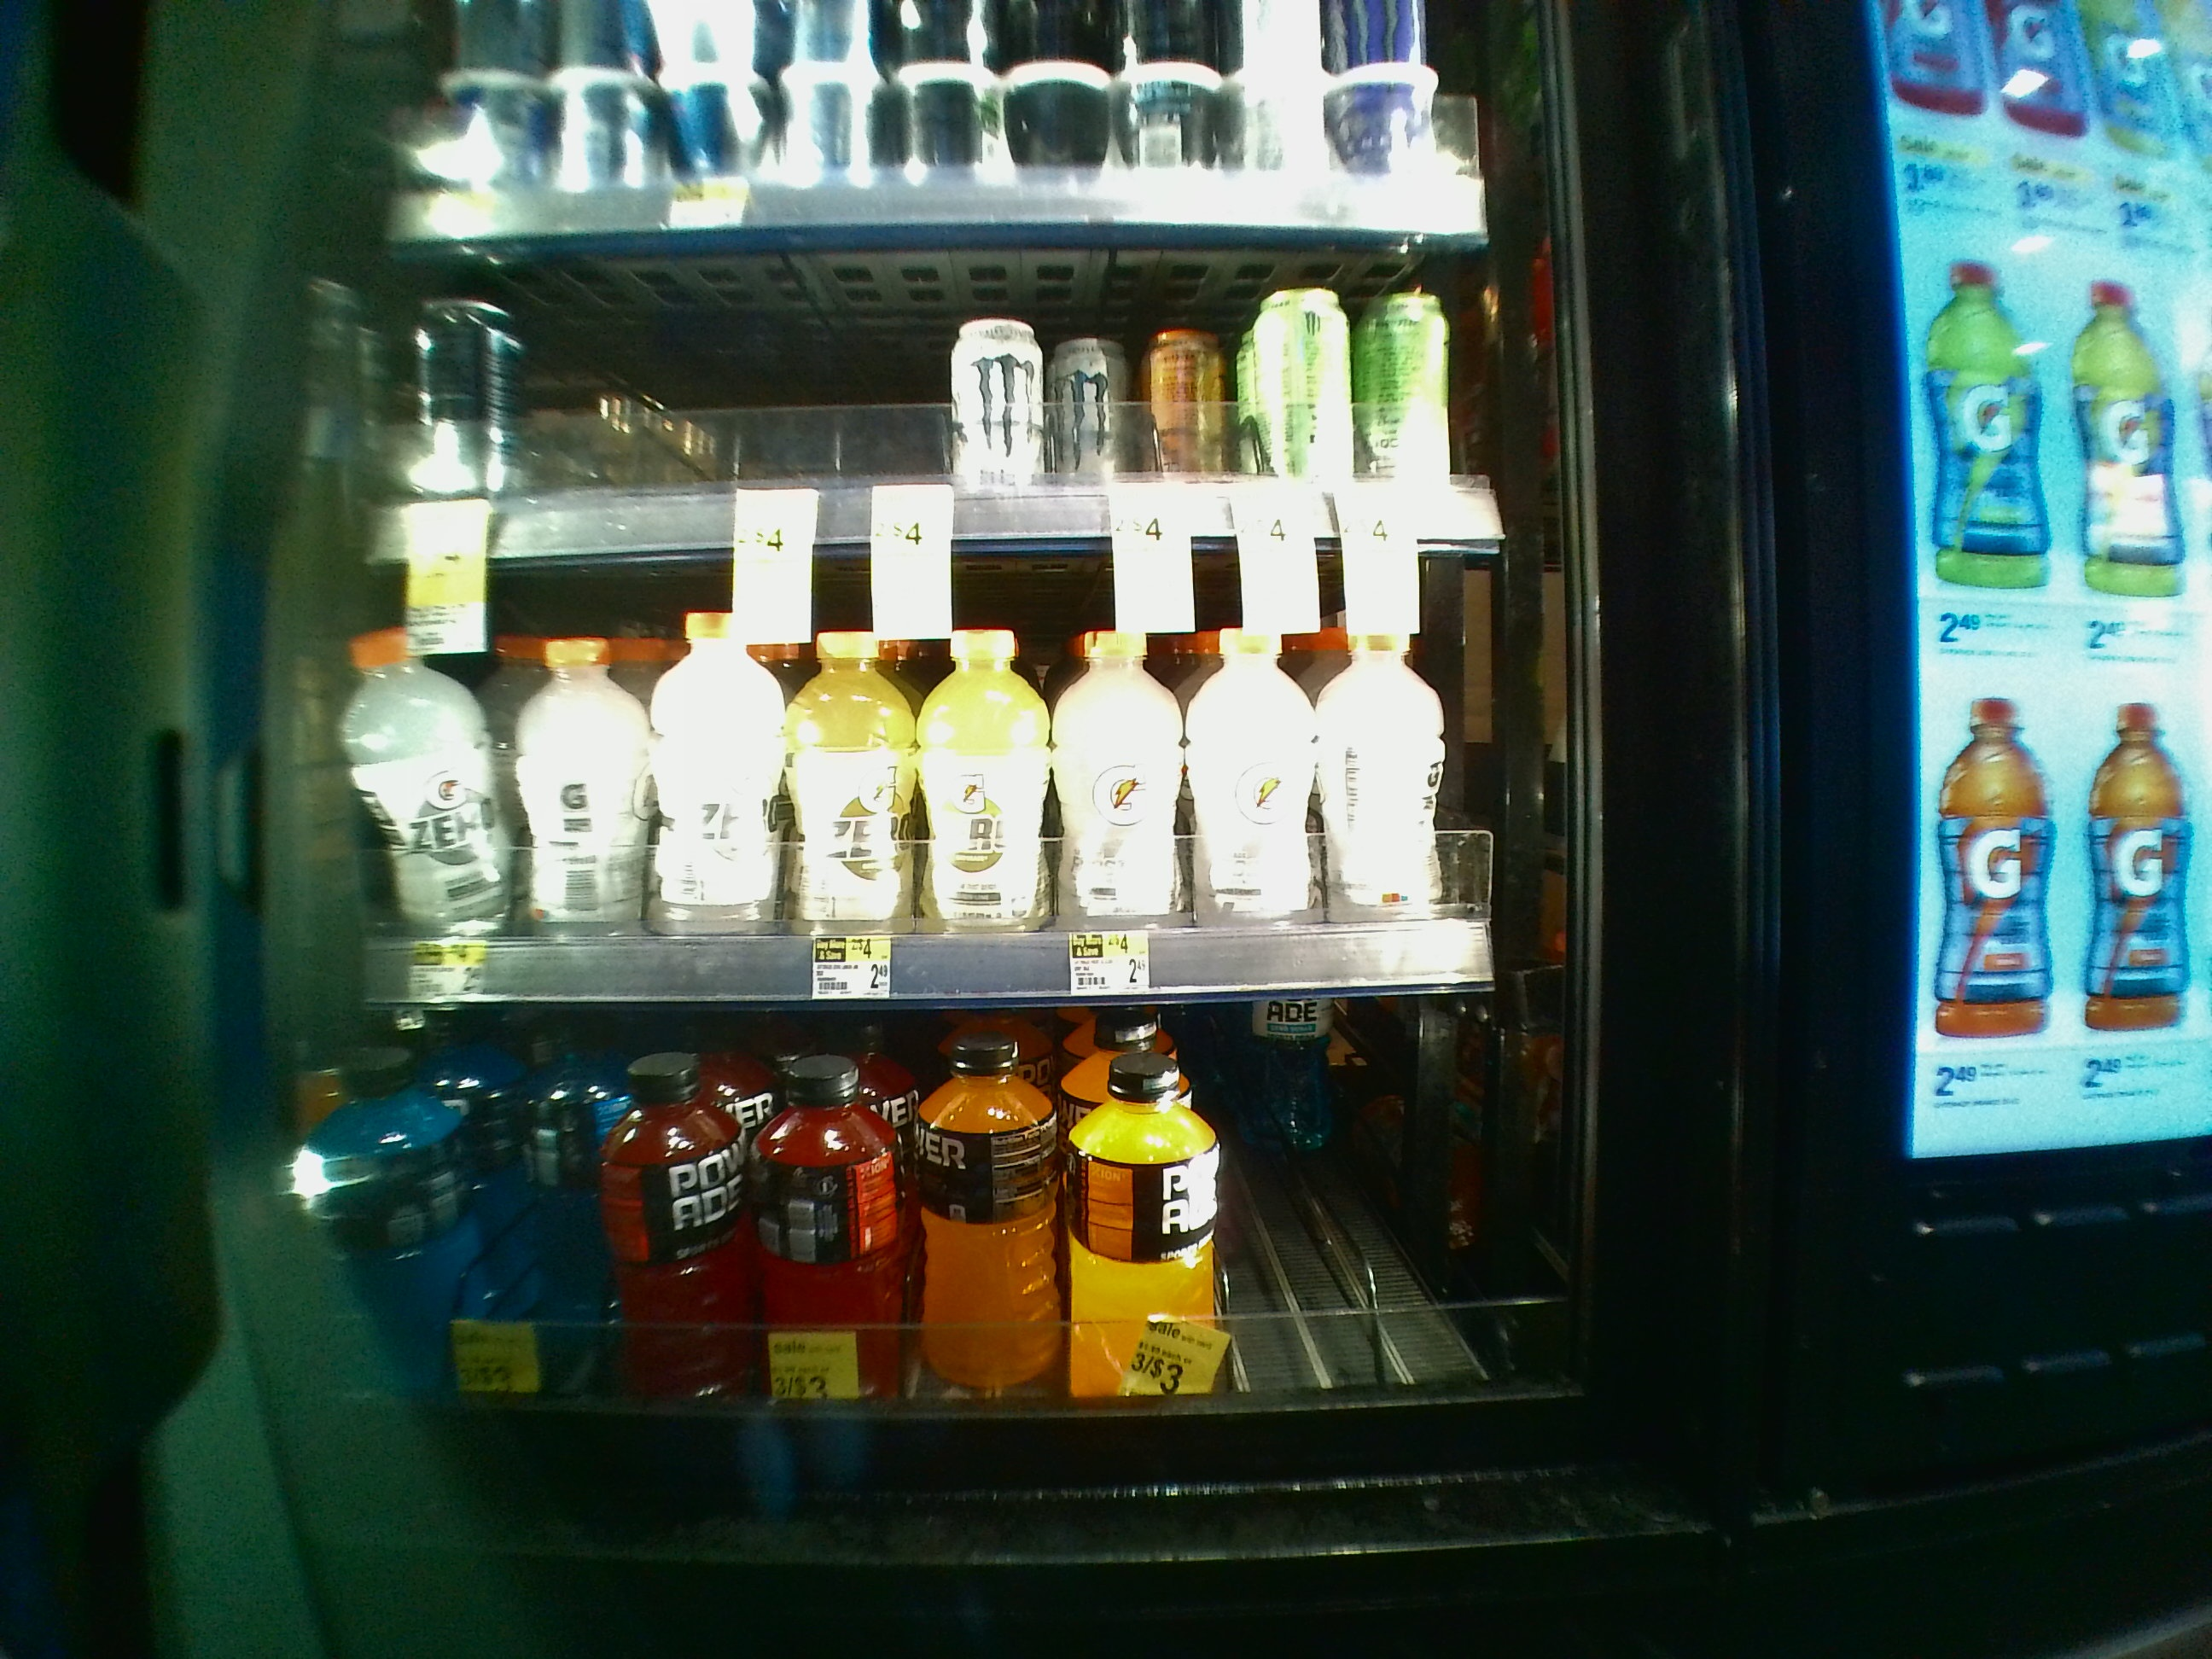shelf: (326, 552, 1594, 992), (320, 993, 1602, 1415), (334, 249, 1590, 549)
